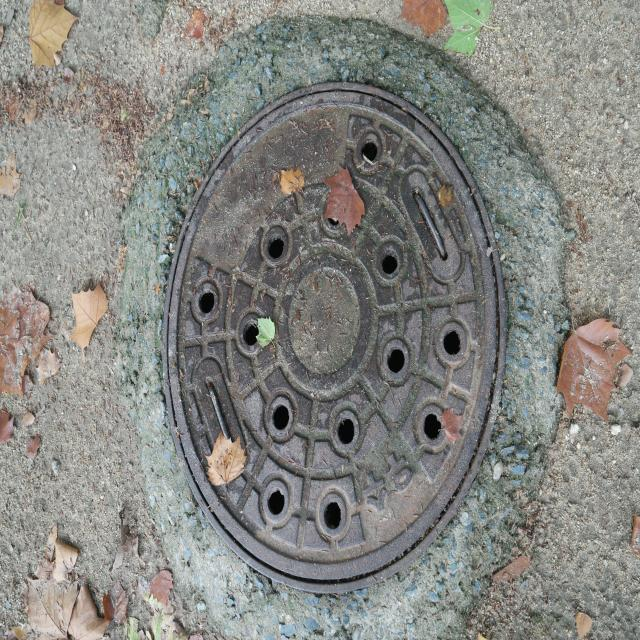manhole: (165, 82, 505, 591)
